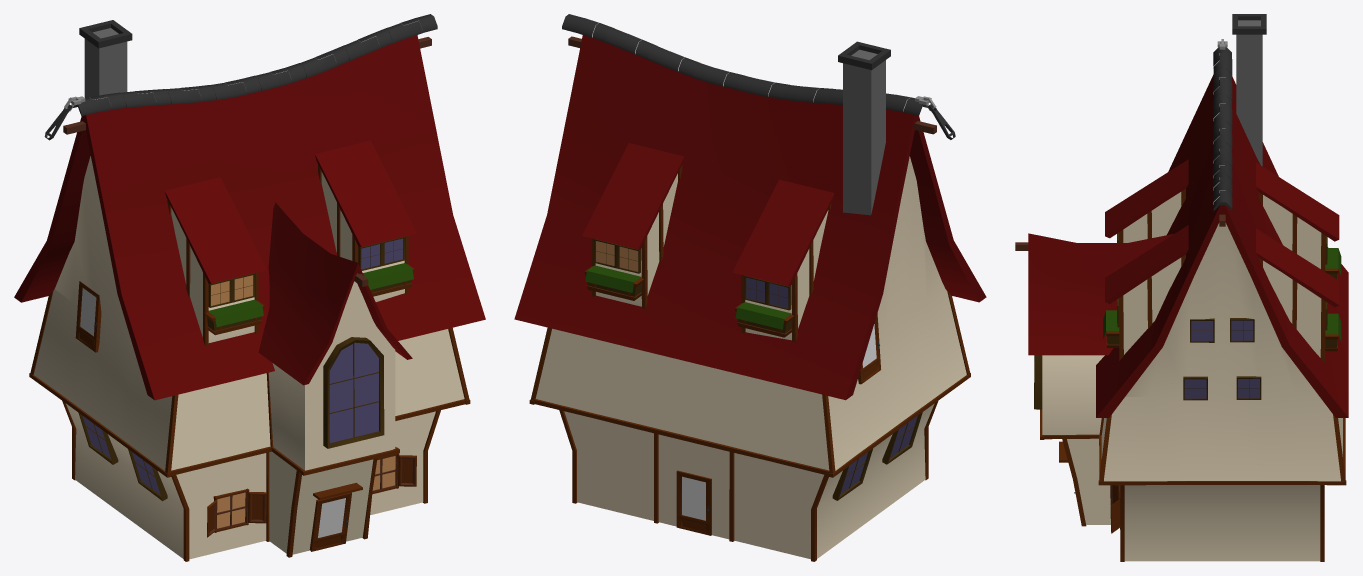
The model's file is HouseVariation.4.fbx.
3 renders of one model, left to right at view 1: azimuth 30°, elevation 25°; view 2: azimuth 150°, elevation 25°; view 3: azimuth 270°, elevation 25°, orthographic. The views are drawn at different scales.
Parts seen in each view (by area): view 1: Cube.007, Cube.004, Cube.001, Cube.009, Cube.005, Cube.274, Cube.059, Cube.061, Janela.045, Cube.006, Cube.069, JanelasPequenas.011 (+16 smaller); view 2: Cube.007, Cube.004, Cube.001, Cube.069, Cube.200, Cube.089, Cube.274, Cube.196, PortaPresset.001, Cube.105, Cube.088, Cube.202 (+9 smaller); view 3: Cube.004, Cube.007, Cube.001, Cube.009, Cube.005, Cube.069, Cube.274, Cube.061, Cube.200, Cube.059, Cube.089, Cube.006 (+17 smaller).
Boxes of the visible parts, x1=… form: Cube.007: x1=14, y1=35, x2=485, y2=400; Cube.004: x1=34, y1=156, x2=464, y2=470; Cube.001: x1=66, y1=403, x2=435, y2=559; Cube.009: x1=258, y1=202, x2=412, y2=385; Cube.005: x1=268, y1=281, x2=395, y2=470; Cube.274: x1=44, y1=14, x2=437, y2=140; Cube.059: x1=165, y1=177, x2=266, y2=283; Cube.061: x1=315, y1=140, x2=416, y2=247; Janela.045: x1=323, y1=337, x2=384, y2=448; Cube.006: x1=269, y1=451, x2=373, y2=554; Cube.069: x1=79, y1=20, x2=132, y2=98; JanelasPequenas.011: x1=207, y1=488, x2=266, y2=537; Cube.007: x1=514, y1=35, x2=986, y2=400; Cube.004: x1=535, y1=156, x2=966, y2=470; Cube.001: x1=564, y1=403, x2=934, y2=559; Cube.069: x1=838, y1=41, x2=890, y2=215; Cube.200: x1=732, y1=179, x2=834, y2=286; Cube.089: x1=582, y1=143, x2=684, y2=249; Cube.274: x1=562, y1=14, x2=955, y2=139; Cube.196: x1=559, y1=401, x2=938, y2=561; PortaPresset.001: x1=676, y1=470, x2=711, y2=535; Cube.105: x1=534, y1=374, x2=966, y2=475; Cube.088: x1=595, y1=173, x2=677, y2=306; Cube.202: x1=584, y1=265, x2=643, y2=300; Cube.004: x1=1101, y1=223, x2=1342, y2=481; Cube.007: x1=1096, y1=75, x2=1348, y2=417; Cube.001: x1=1124, y1=485, x2=1320, y2=561; Cube.009: x1=1028, y1=233, x2=1174, y2=355; Cube.005: x1=1042, y1=355, x2=1104, y2=434; Cube.069: x1=1232, y1=14, x2=1266, y2=166; Cube.274: x1=1213, y1=39, x2=1232, y2=210; Cube.061: x1=1105, y1=225, x2=1188, y2=303; Cube.200: x1=1256, y1=162, x2=1339, y2=241; Cube.059: x1=1105, y1=159, x2=1188, y2=238; Cube.089: x1=1256, y1=228, x2=1339, y2=307; Cube.006: x1=1067, y1=438, x2=1110, y2=524.
Bounding box in the file's own units: 1802 × 2139 × 1500.
